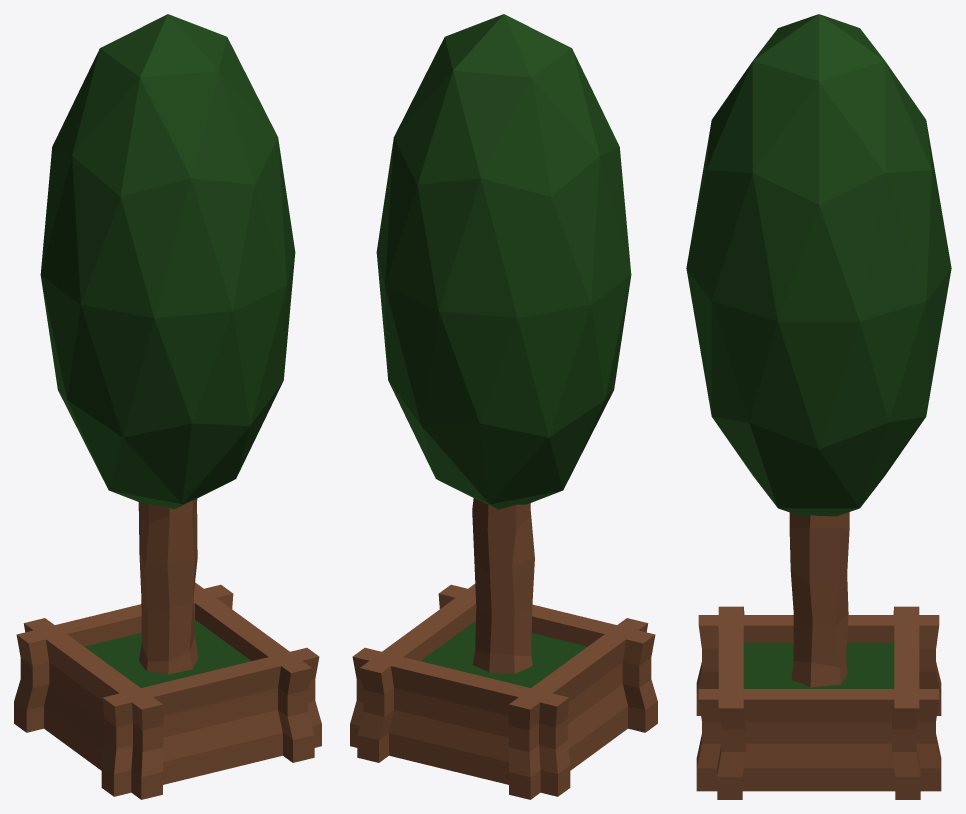
The model's file is TreeInPot1.obj.
3 renders of one model, left to right at view 1: azimuth 30°, elevation 25°; view 2: azimuth 150°, elevation 25°; view 3: azimuth 270°, elevation 25°, orthographic.
Parts seen in each view (by area): view 1: drzewo; view 2: drzewo; view 3: drzewo.
Boxes of the visible parts, <box> form: drzewo: <box>14,14,321,799</box>; drzewo: <box>350,14,657,799</box>; drzewo: <box>686,14,951,799</box>.
Bounding box in the file's own units: 2.52 × 8.1 × 2.65.
